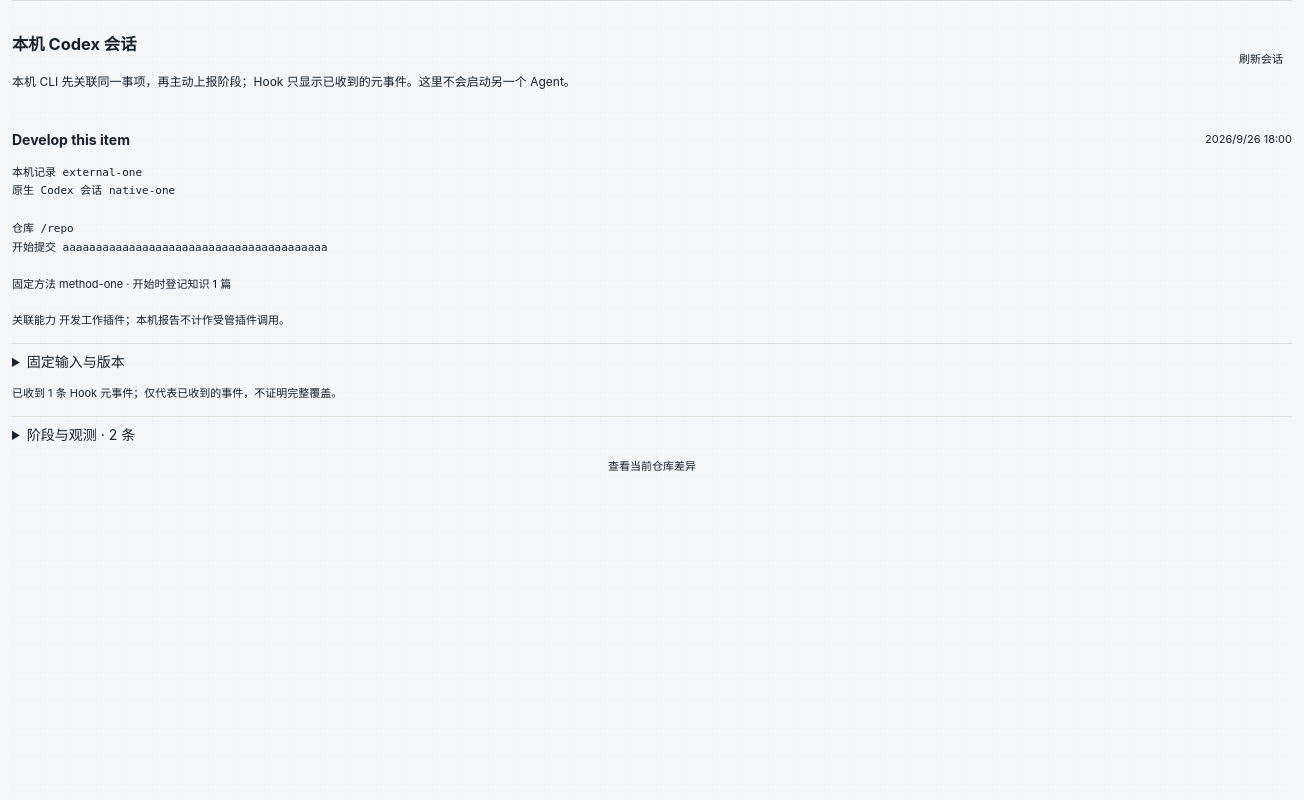
Test: shows one native session with explicit report and limited Hook provenance
This screenshot has width=1304, height=800.
Click the button "查看当前仓库差异" at (652, 467), box left=12, top=453, right=1292, bottom=481
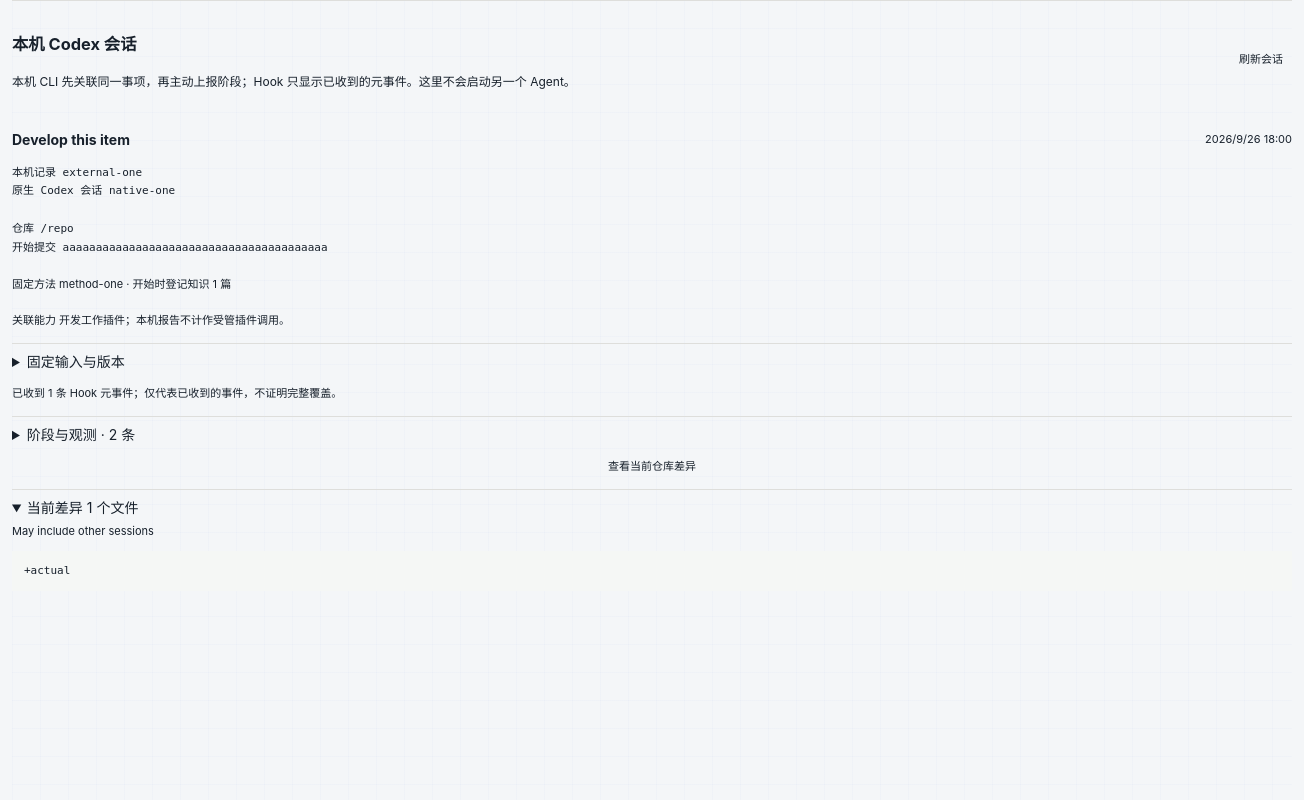
Expected: the text "May include other sessions" is shown, left=12, top=524, right=154, bottom=538
